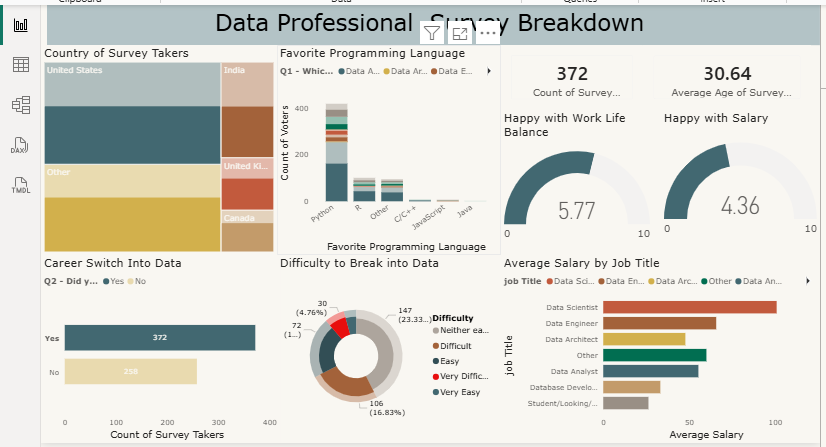

The dashboard page shown, as its layout file describes it:
{"tool":"powerbi","page":{"name":"Page 1","canvas":[1280,720],"ordinal":0},"visuals":[{"type":"textbox","box":[10.1,0,1269.9,65.5],"z":0},{"type":"cardVisual","fields":{"Data":["Count(Data Professional Survey.Unique ID)"]},"box":[755.8,65.7,233.3,106.8],"z":1000},{"type":"cardVisual","fields":{"Data":["Avg(Data Professional Survey.Q10 - Current Age)"]},"box":[989.2,65.7,276,106.8],"z":2000},{"type":"barChart","title":"Average Salary by Job Title","fields":{"Category":["Data Professional Survey.Q1 - Which Title Best Fits your Current Role?.1"],"Y":["Avg(Data Professional Survey.Average Salary)"],"Series":["Data Professional Survey.Q1 - Which Title Best Fits your Current Role?.1"]},"box":[755.8,410.8,524.2,308.9],"z":3000},{"type":"columnChart","title":"Favorite Programming Language","fields":{"Category":["Data Professional Survey.Q5 - Favorite Programming Language.1"],"Y":["Count(Data Professional Survey.Unique ID)"],"Series":["Data Professional Survey.Q1 - Which Title Best Fits your Current Role?.1"]},"box":[387.8,65.7,368.1,345.1],"z":4000},{"type":"gauge","title":"Happy with Work Life Balance","fields":{"Y":["Avg(Data Professional Survey.Q6 - How Happy are you in your Current Position with the following? (Work/Life Balance))"],"MinValue":["Min(Data Professional Survey.Q6 - How Happy are you in your Current Position with the following? (Work/Life Balance))1"],"MaxValue":["Max(Data Professional Survey.Q6 - How Happy are you in your Current Position with the following? (Work/Life Balance))2"]},"box":[755.8,172.5,249.8,238.3],"z":5000},{"type":"gauge","title":"Happy with Salary","fields":{"Y":["Avg(Data Professional Survey.Q6 - How Happy are you in your Current Position with the following? (Salary))"],"MinValue":["Min(Data Professional Survey.Q6 - How Happy are you in your Current Position with the following? (Salary))"],"MaxValue":["Max(Data Professional Survey.Q6 - How Happy are you in your Current Position with the following? (Salary))"]},"box":[1018.7,172.5,261.3,238.3],"z":6000},{"type":"donutChart","title":"Difficulty to Break into Data","fields":{"Category":["Data Professional Survey.Q7 - How difficult was it for you to break into Data?"],"Y":["CountNonNull(Data Professional Survey.Q7 - How difficult was it for you to break into Data?)"]},"box":[387.8,410.8,368.1,308.9],"z":7000},{"type":"barChart","title":"Career Switch Into Data","fields":{"Category":["Data Professional Survey.Q2 - Did you switch careers into Data?"],"Y":["Count(Data Professional Survey.Unique ID)"],"Series":["Data Professional Survey.Q2 - Did you switch careers into Data?"]},"box":[0,410.8,392.7,308.9],"z":8000},{"type":"treemap","title":"Country of Survey Takers","fields":{"Group":["Data Professional Survey.Q11 - Which Country do you live in?.1"],"Values":["CountNonNull(Data Professional Survey.Q11 - Which Country do you live in?.1)"]},"box":[0,65.7,387.8,345.1],"z":9000}]}

Visuals, with their boxes on the page's 1280x720 design canvas (x1, y1, x2, y2). These are canvas units, not pixel positions in the 826x447 screenshot, which may show the page scaled, cropped or inside an application window:
textbox: bbox(10, 0, 1280, 66)
cardVisual - Count(Data Professional Survey.Unique ID): bbox(756, 66, 989, 172)
cardVisual - Avg(Data Professional Survey.Q10 - Current Age): bbox(989, 66, 1265, 172)
"Average Salary by Job Title" barChart: bbox(756, 411, 1280, 720)
"Favorite Programming Language" columnChart: bbox(388, 66, 756, 411)
"Happy with Work Life Balance" gauge: bbox(756, 172, 1006, 411)
"Happy with Salary" gauge: bbox(1019, 172, 1280, 411)
"Difficulty to Break into Data" donutChart: bbox(388, 411, 756, 720)
"Career Switch Into Data" barChart: bbox(0, 411, 393, 720)
"Country of Survey Takers" treemap: bbox(0, 66, 388, 411)
